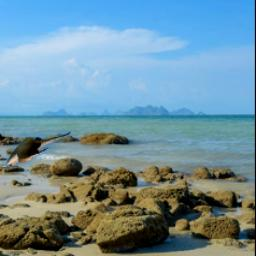Cuckoo: (2, 131, 72, 167)
